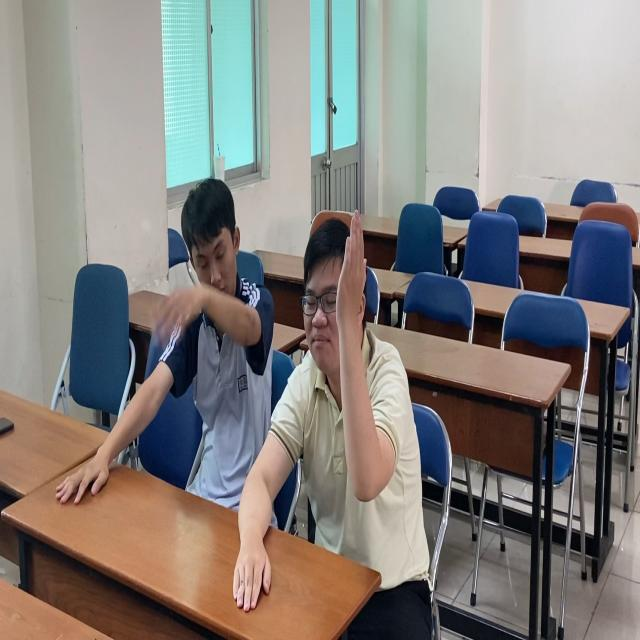raise_hand: (281, 182, 414, 568)
